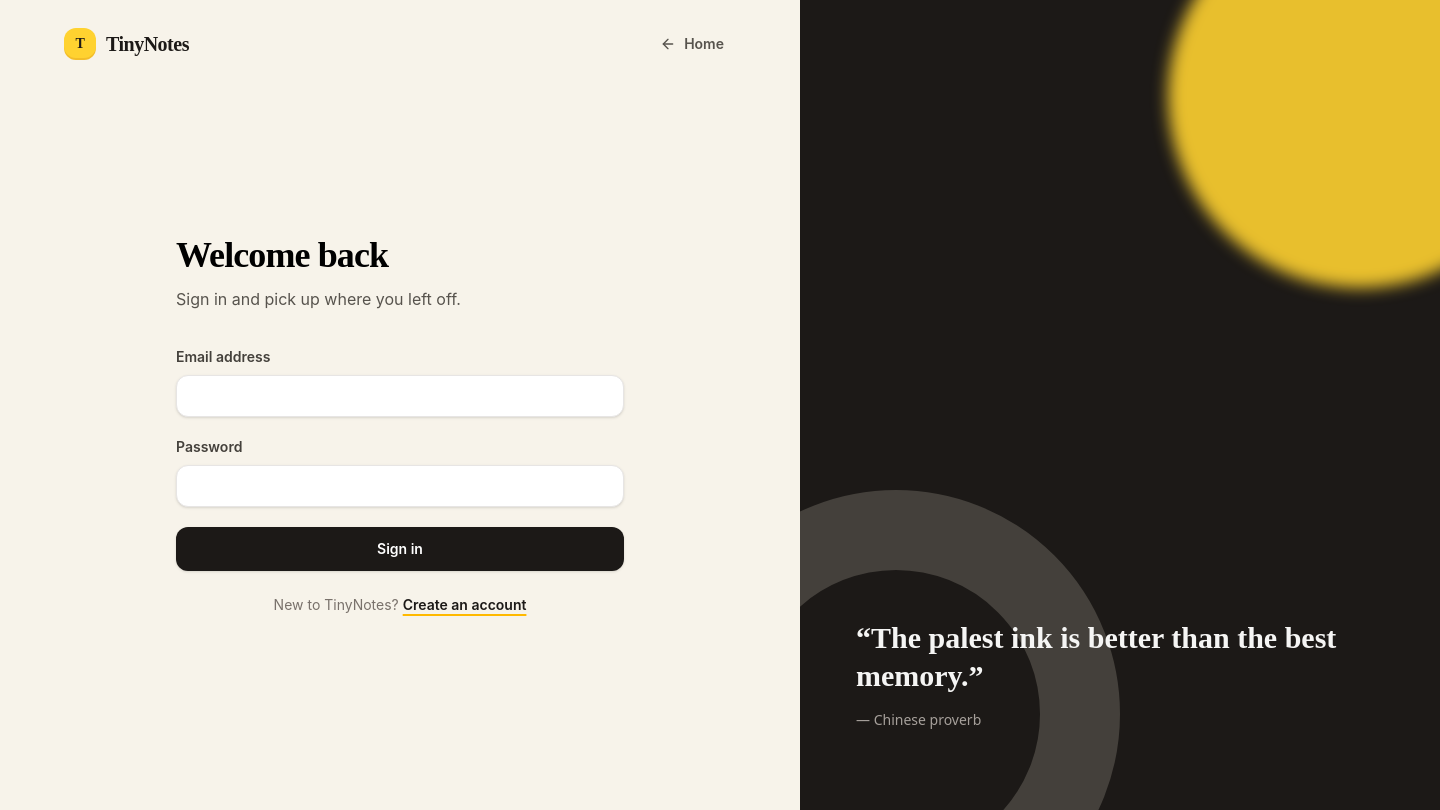
Test: SignInPage › distinguishes rate limiting from invalid credentials
Type "reader@example.com" into the field labelled "Email address" at (400, 396), box [176, 375, 624, 417]
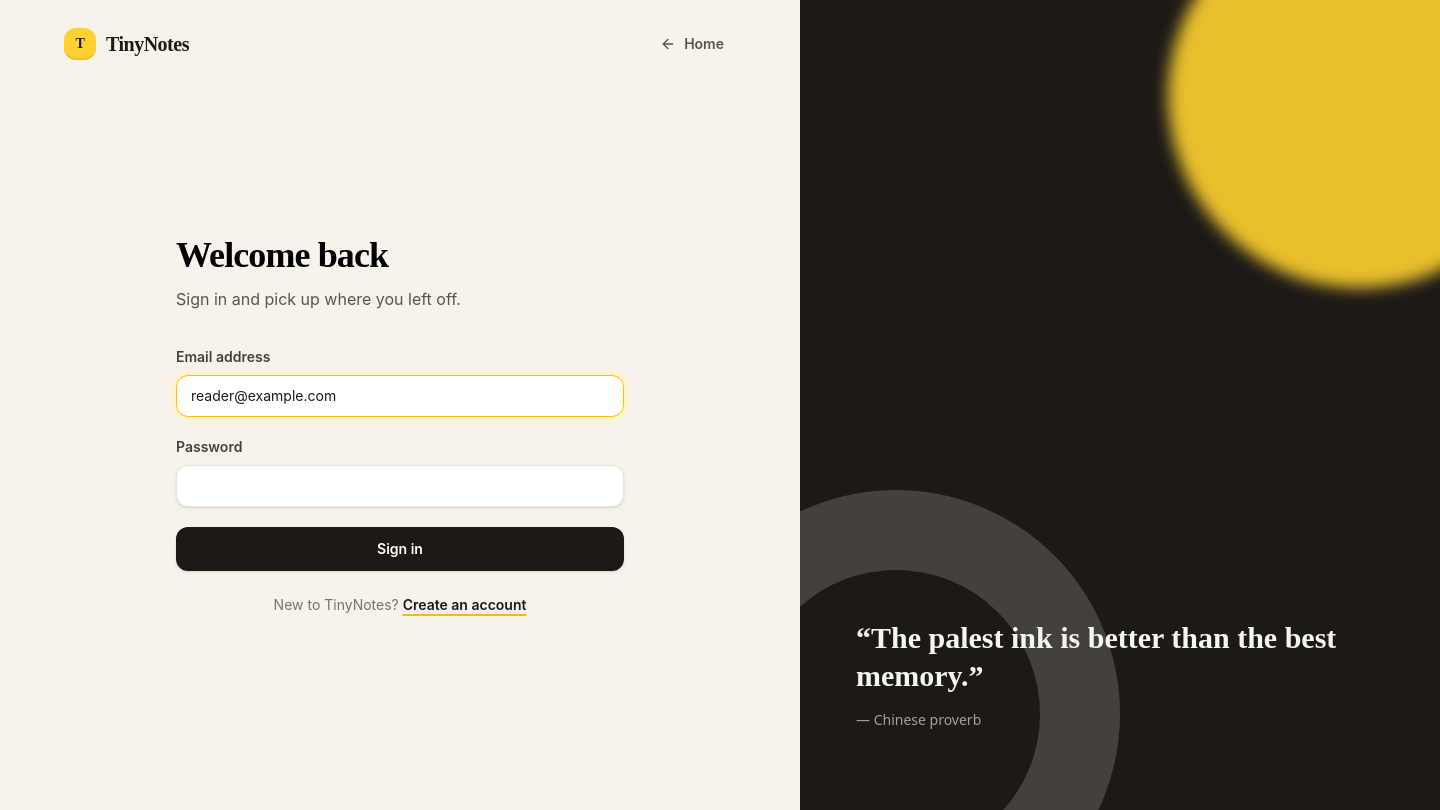
Type "correct-length" into the password field labelled "Password" at (400, 486), box [176, 465, 624, 507]
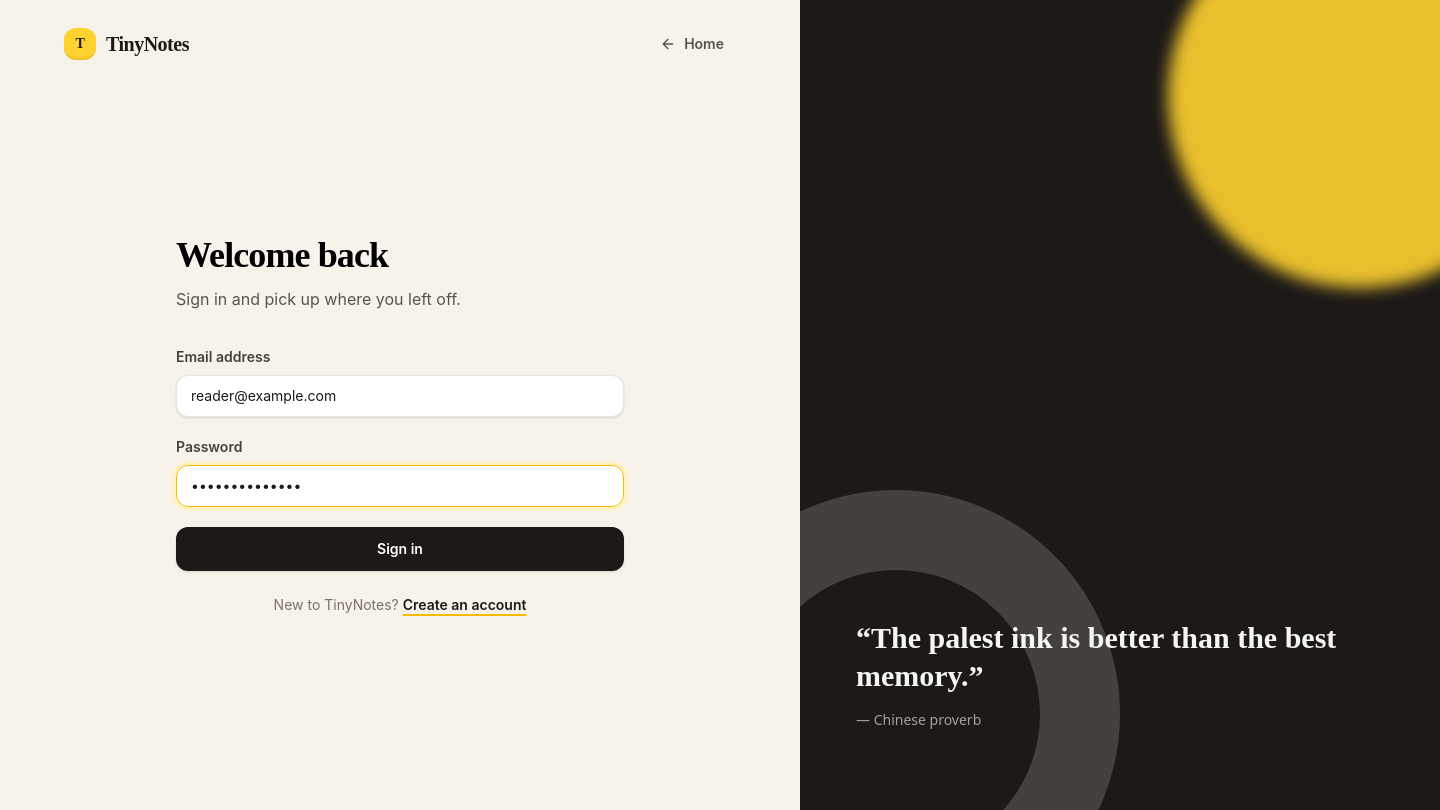
Click the button "Sign in" at (400, 549), box [176, 527, 624, 571]
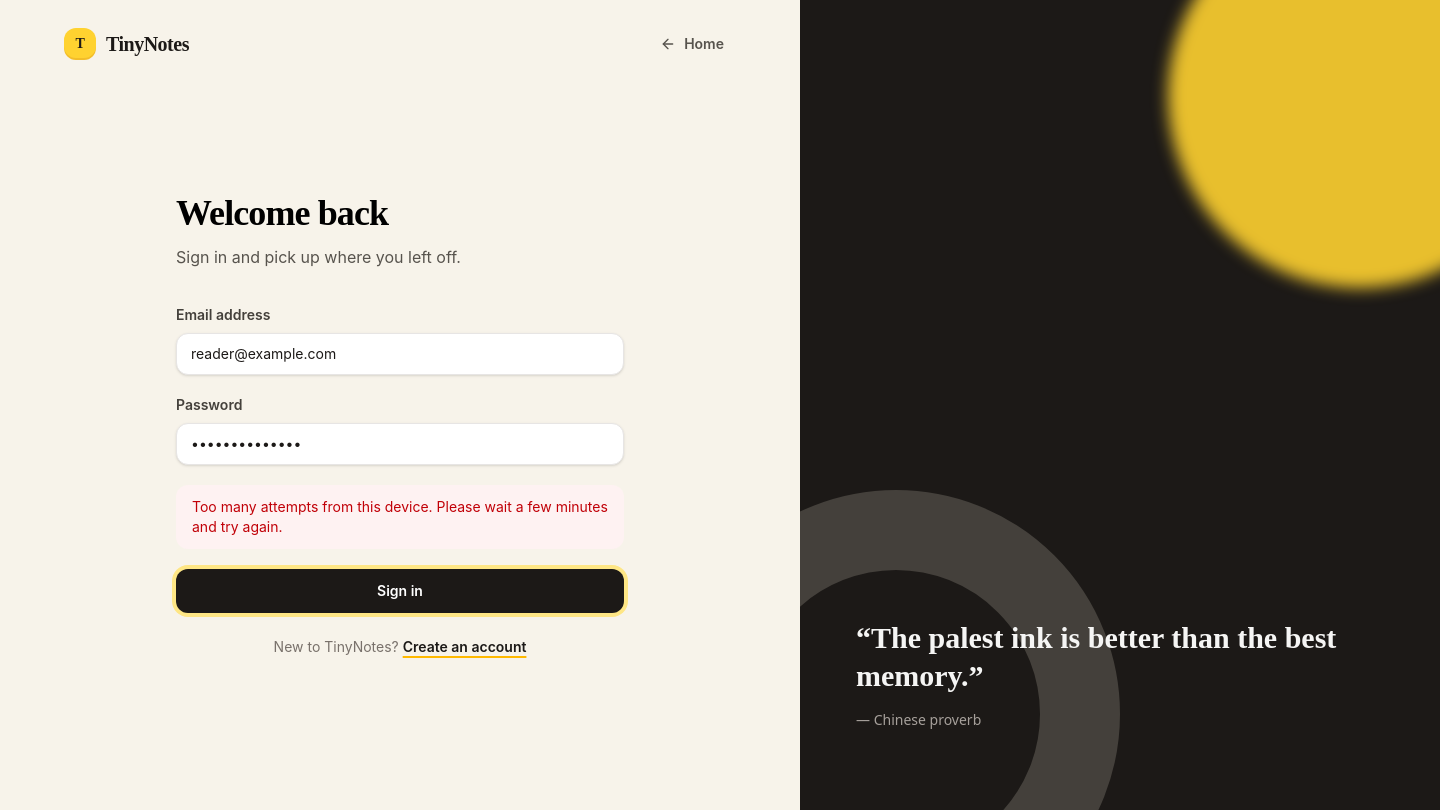
Expected: the message reads "Too many attempts from this device. Please wait a few minutes and try again.", [192, 498, 608, 535]
